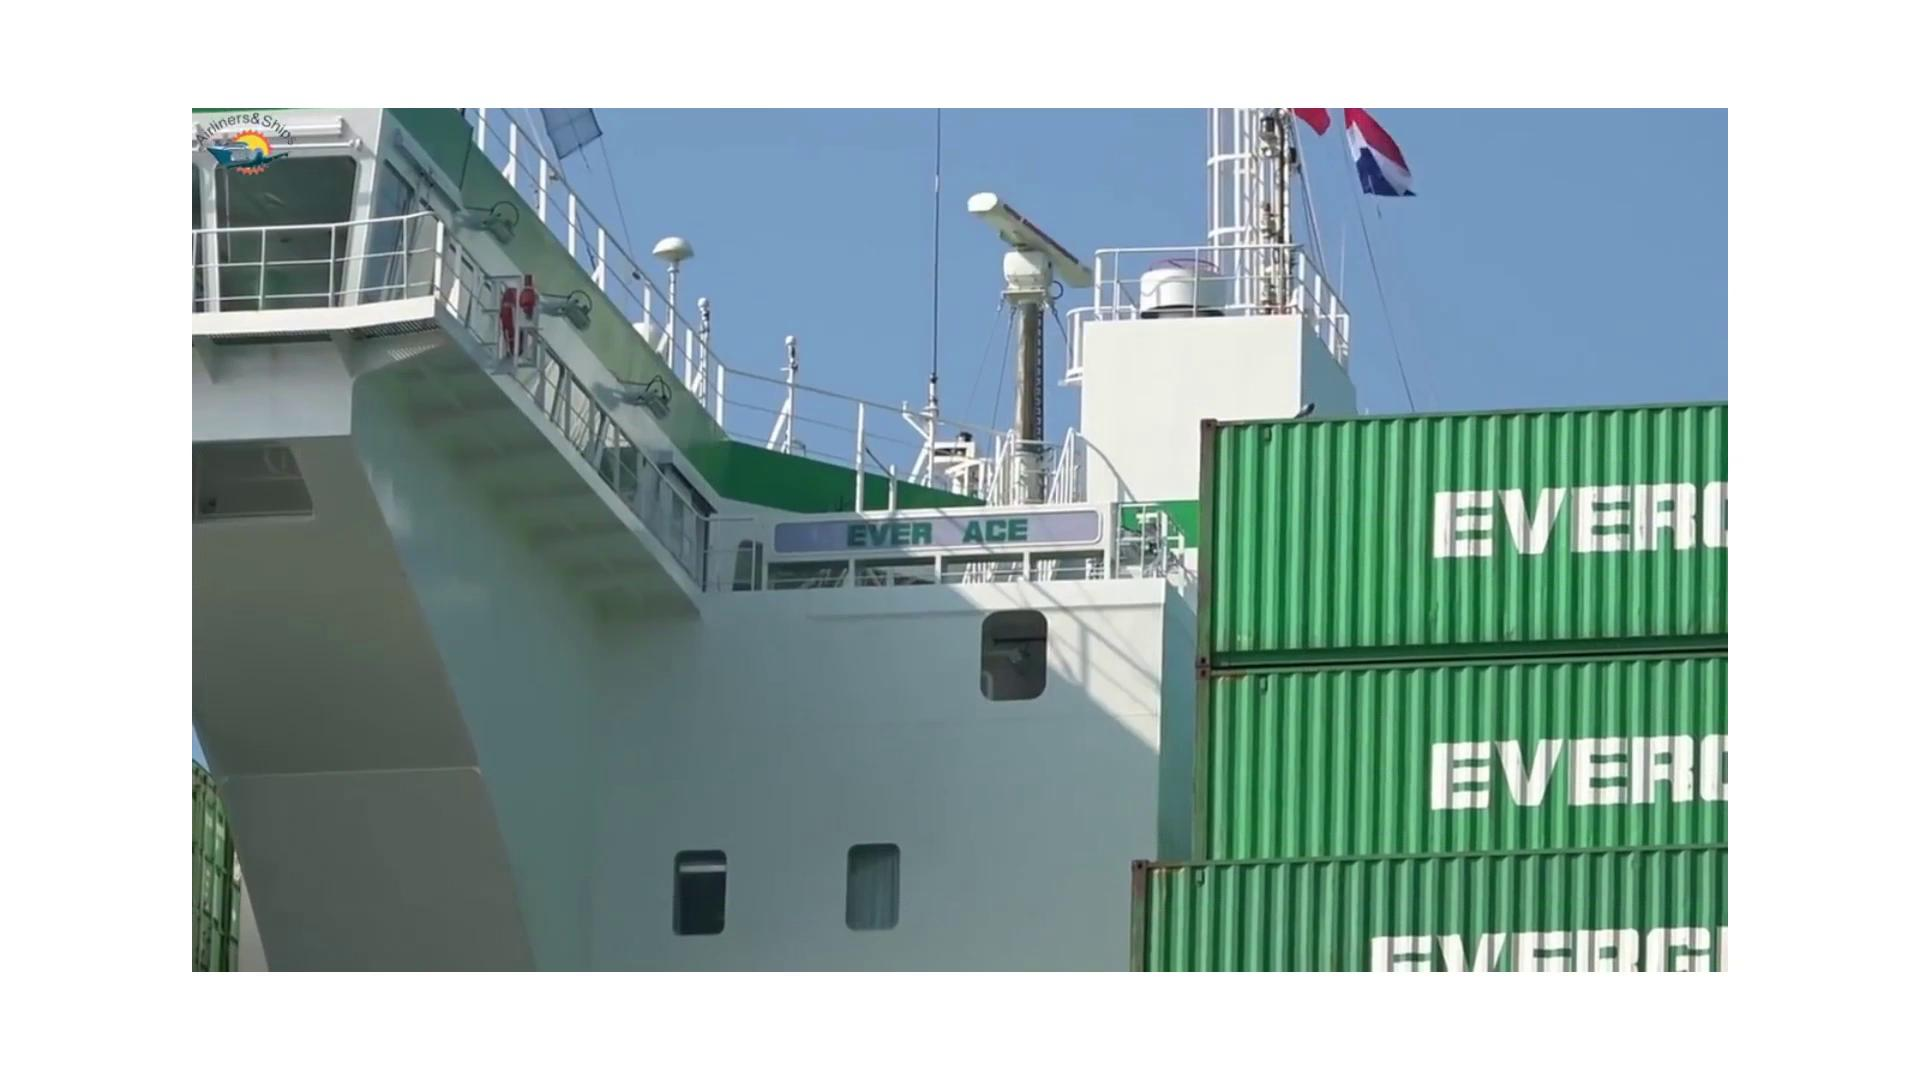OCR: (1408, 456, 1722, 576), (810, 506, 1058, 570)
